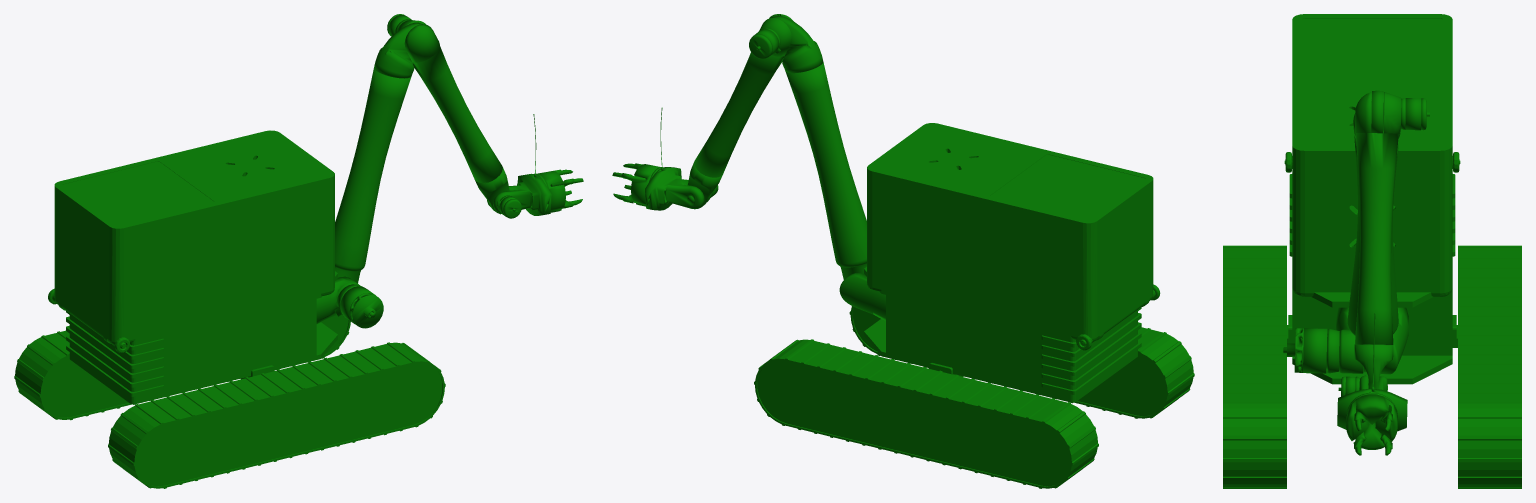
The model's file is Donkey_green.dae.
3 views of the same model, side by side, from view 1: azimuth 30°, elevation 25°; view 2: azimuth 150°, elevation 25°; view 3: azimuth 270°, elevation 25° (orthographic). The views are drawn at different scales.
Parts seen in each view (by area): view 1: SM_Donkey, box; view 2: SM_Donkey, box; view 3: SM_Donkey, box.
Part boxes in pixels (x1,y1,x2,y2): SM_Donkey: (14,14,583,488); box: (48,130,334,352); SM_Donkey: (612,14,1194,488); box: (867,123,1160,350); SM_Donkey: (1223,90,1521,488); box: (1284,14,1460,296).
Bounding box in the file's own units: 2.16 × 0.8854 × 1.41.
